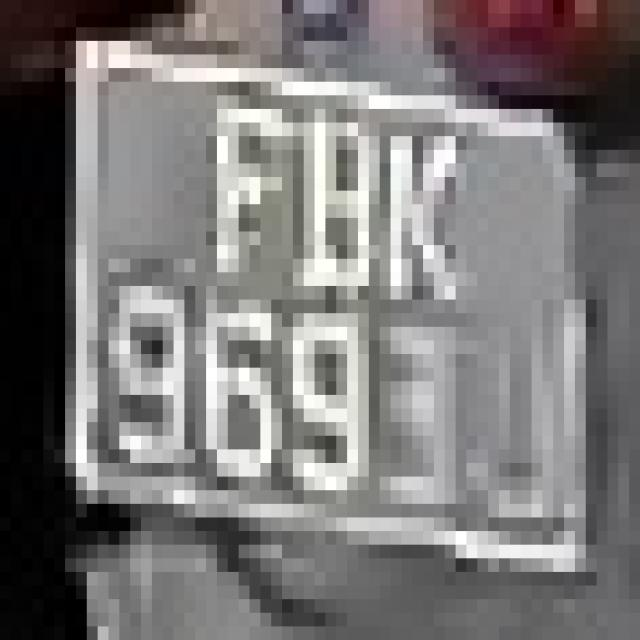3: (358, 286, 456, 558)
6: (174, 259, 282, 504)
9: (271, 272, 391, 531), (87, 232, 184, 531)
B: (260, 41, 380, 313)
F: (174, 82, 282, 313)
J: (456, 286, 575, 585)
K: (336, 68, 488, 341)
